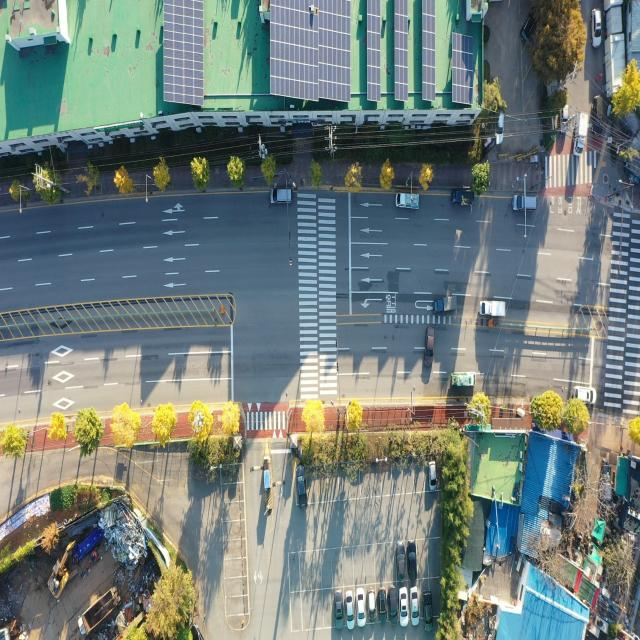car: (423, 325, 436, 366), (296, 462, 307, 504), (512, 196, 538, 213), (271, 187, 294, 204), (576, 386, 597, 404), (522, 13, 535, 42), (396, 543, 405, 582), (593, 10, 602, 49), (409, 543, 418, 581), (388, 586, 397, 624), (336, 591, 345, 628), (379, 588, 388, 624), (593, 97, 602, 131), (356, 586, 364, 623), (424, 590, 432, 626), (399, 588, 407, 624), (412, 588, 420, 624), (346, 591, 354, 626), (366, 590, 374, 624), (496, 113, 504, 146), (428, 462, 436, 492), (561, 104, 569, 132)
medium_truck: (75, 585, 121, 640)
small_truck: (480, 300, 508, 320), (574, 112, 586, 156), (395, 193, 419, 211), (452, 190, 475, 208), (434, 298, 458, 315), (452, 373, 476, 389)
